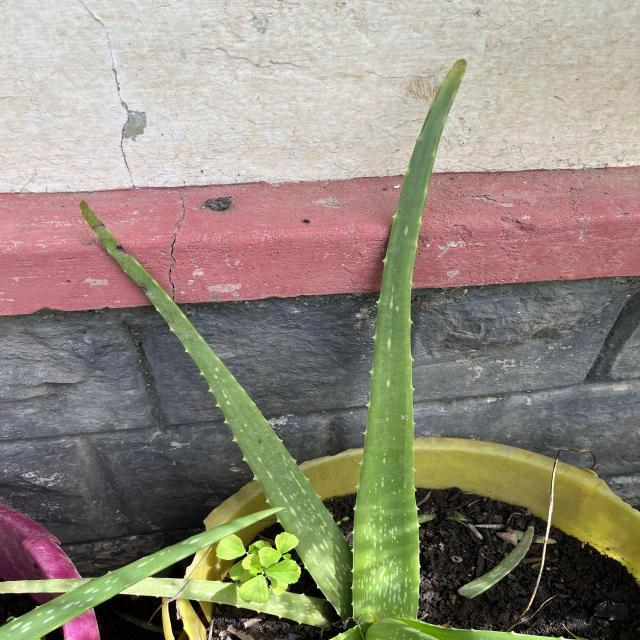Aloe vera: (342, 56, 472, 624)
